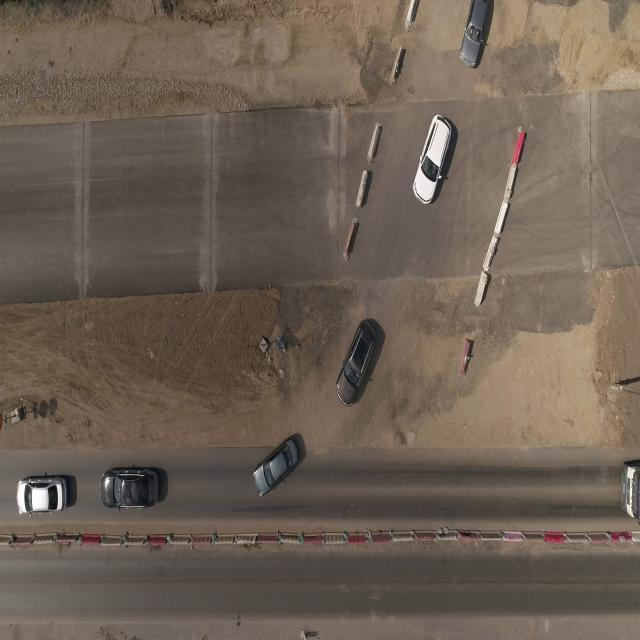vehicle: (335, 318, 377, 407), (412, 114, 452, 204), (254, 436, 298, 496), (100, 469, 160, 508), (459, 0, 491, 68), (17, 478, 68, 514), (620, 461, 640, 531)
